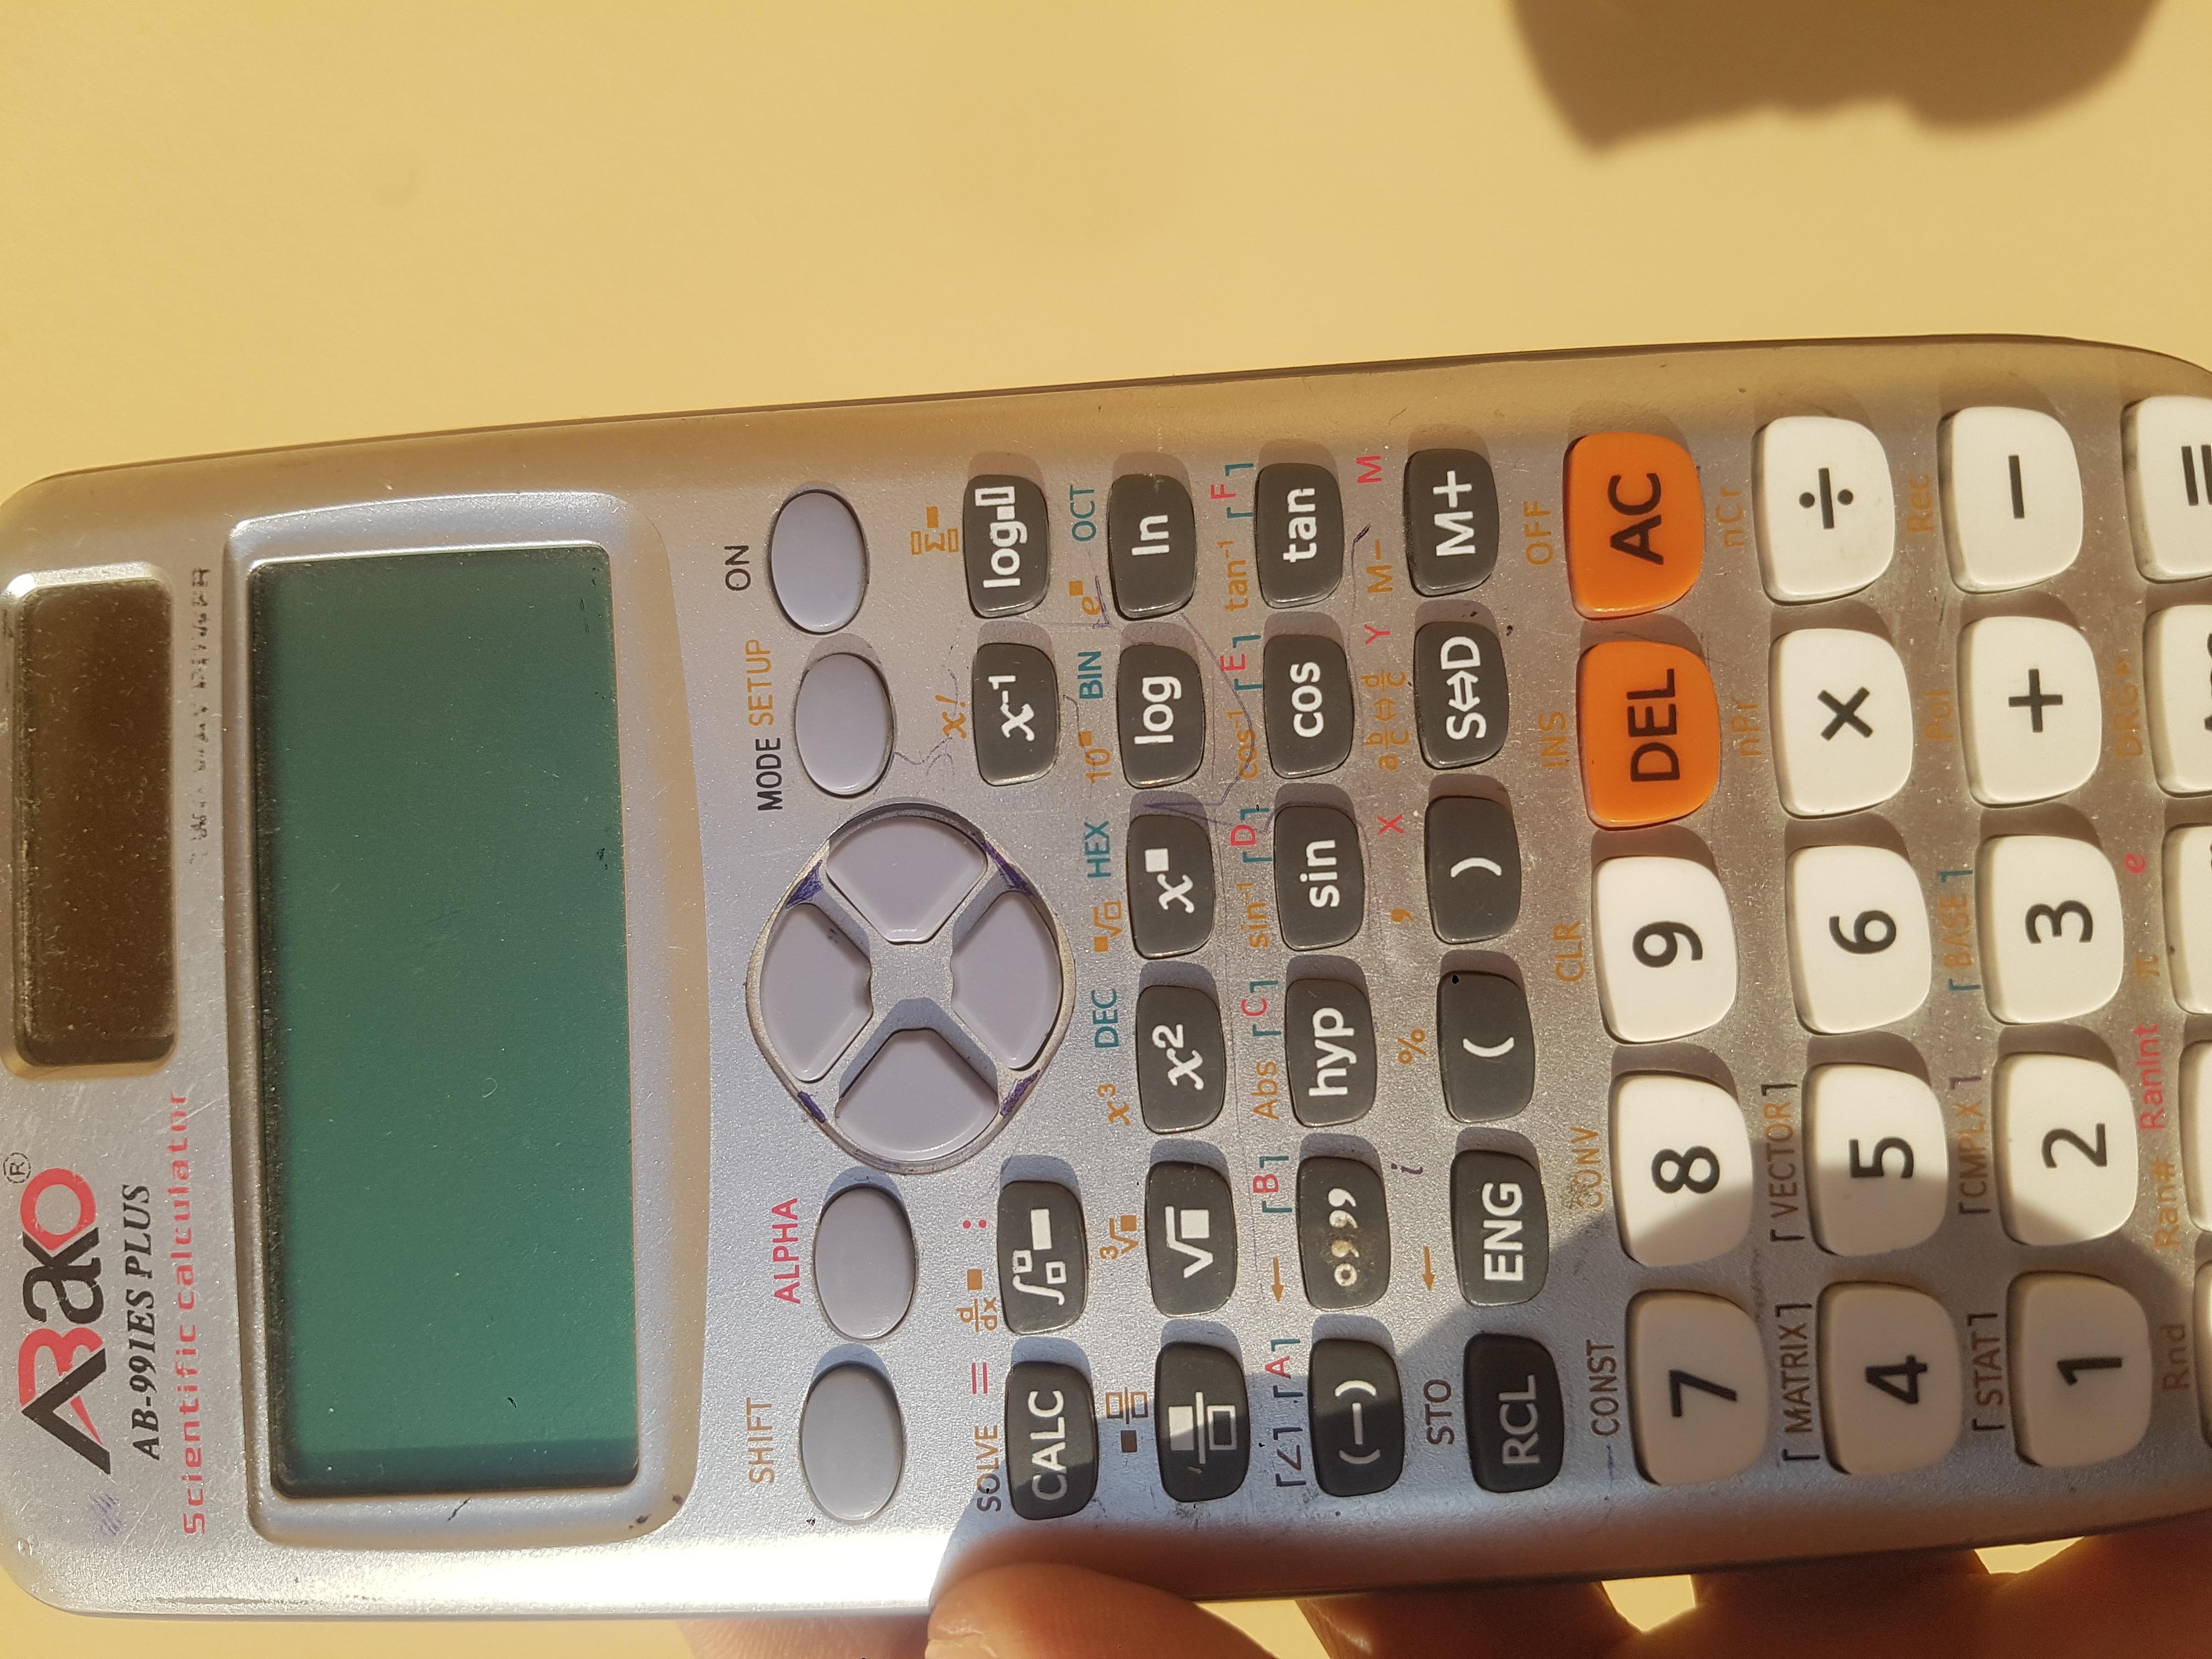electronic: (22, 0, 1829, 1658)
